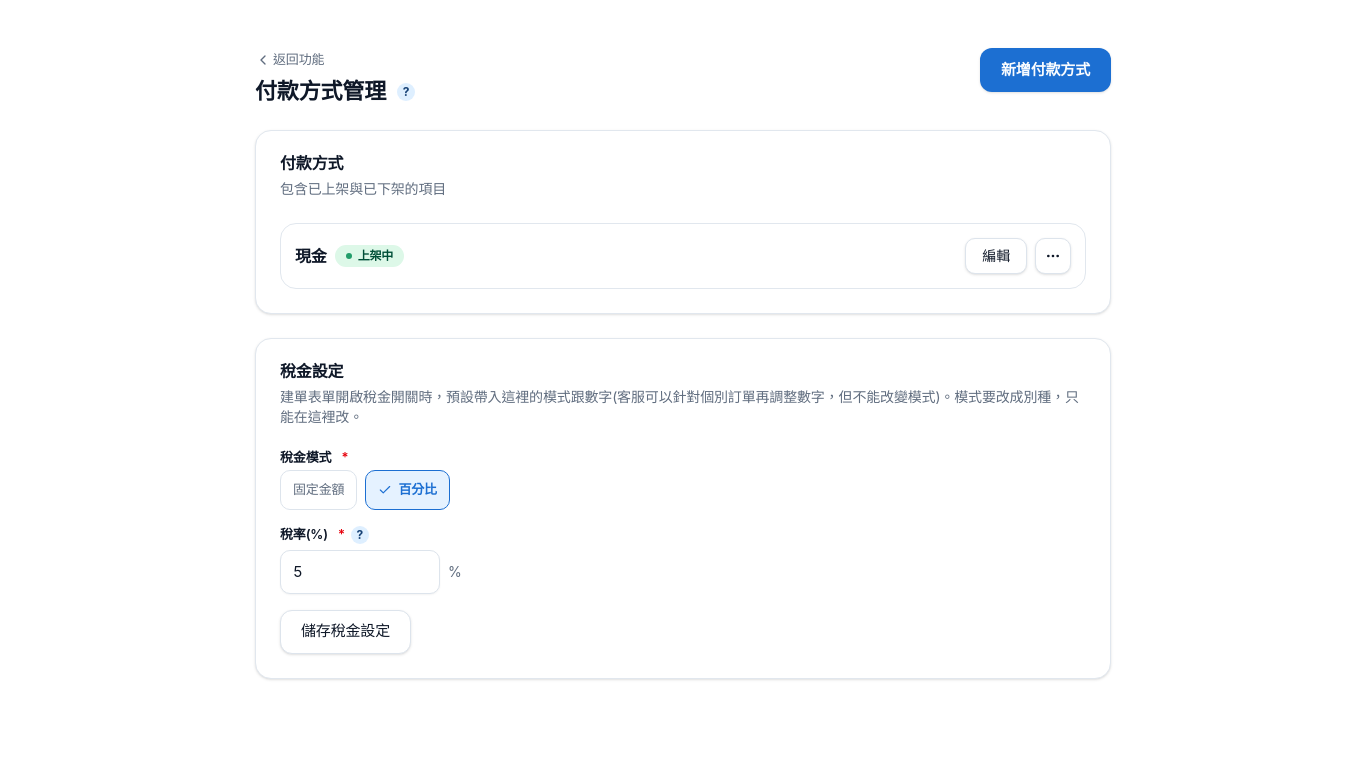
Test: 付款方式小卡窗 × 填過資料才問放棄(第 11 批 J) › 編輯:打開不改 ⇒ Esc 直接關;改一個字 ⇒ Esc 先問
Click the button "編輯" at (996, 256), box [965,238,1027,274]
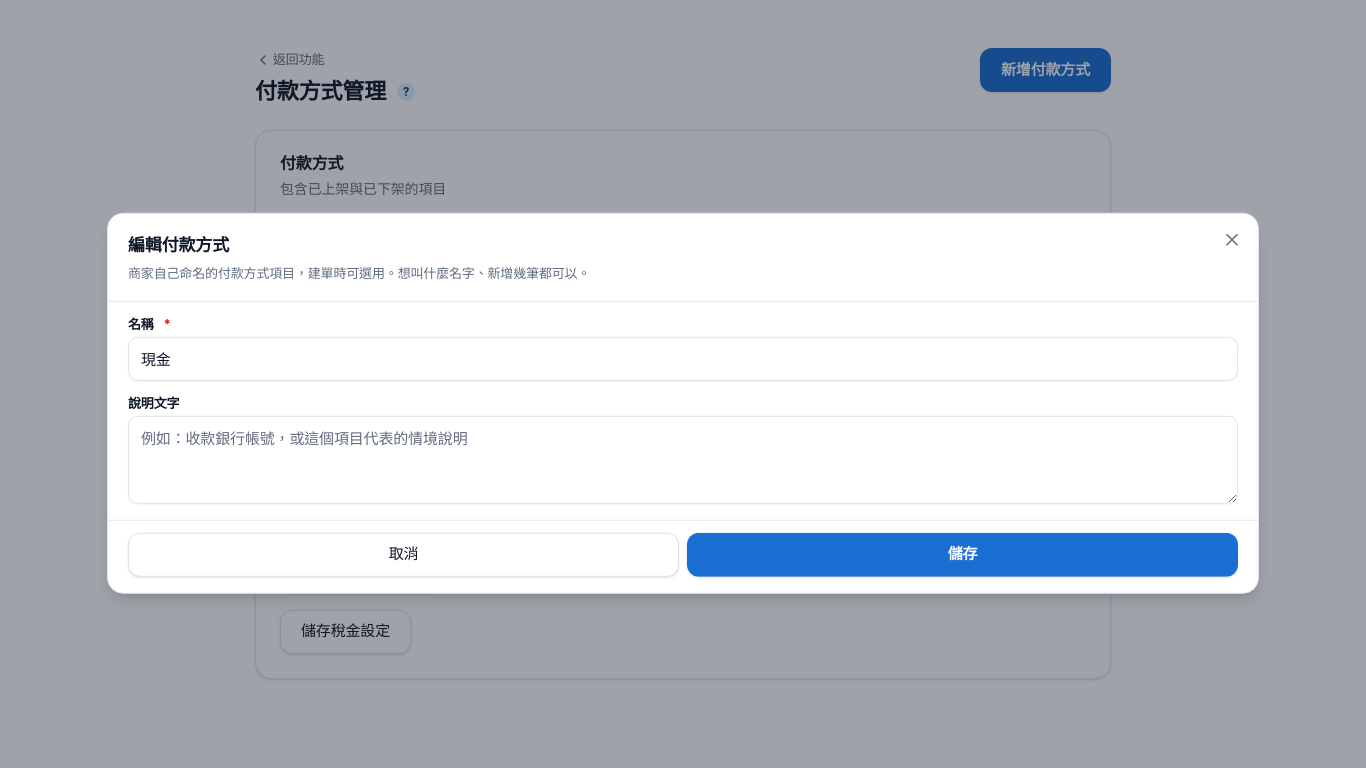
Now the field labelled "名稱 *" holds "現金", box [128,336,1238,380]
Press Escape in the dialog, box [107,213,1259,593]
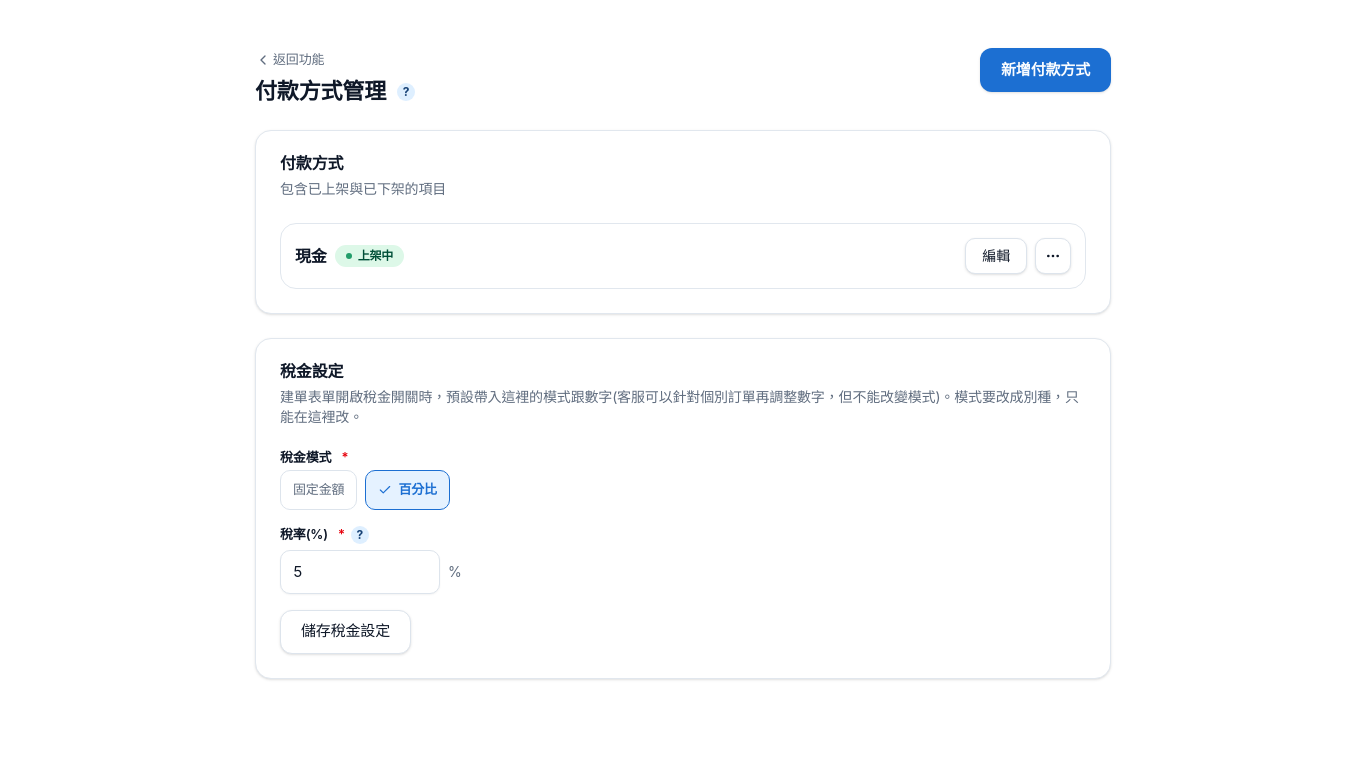
Now the dialog is gone
Click the button "編輯" at (996, 256), box [965,238,1027,274]
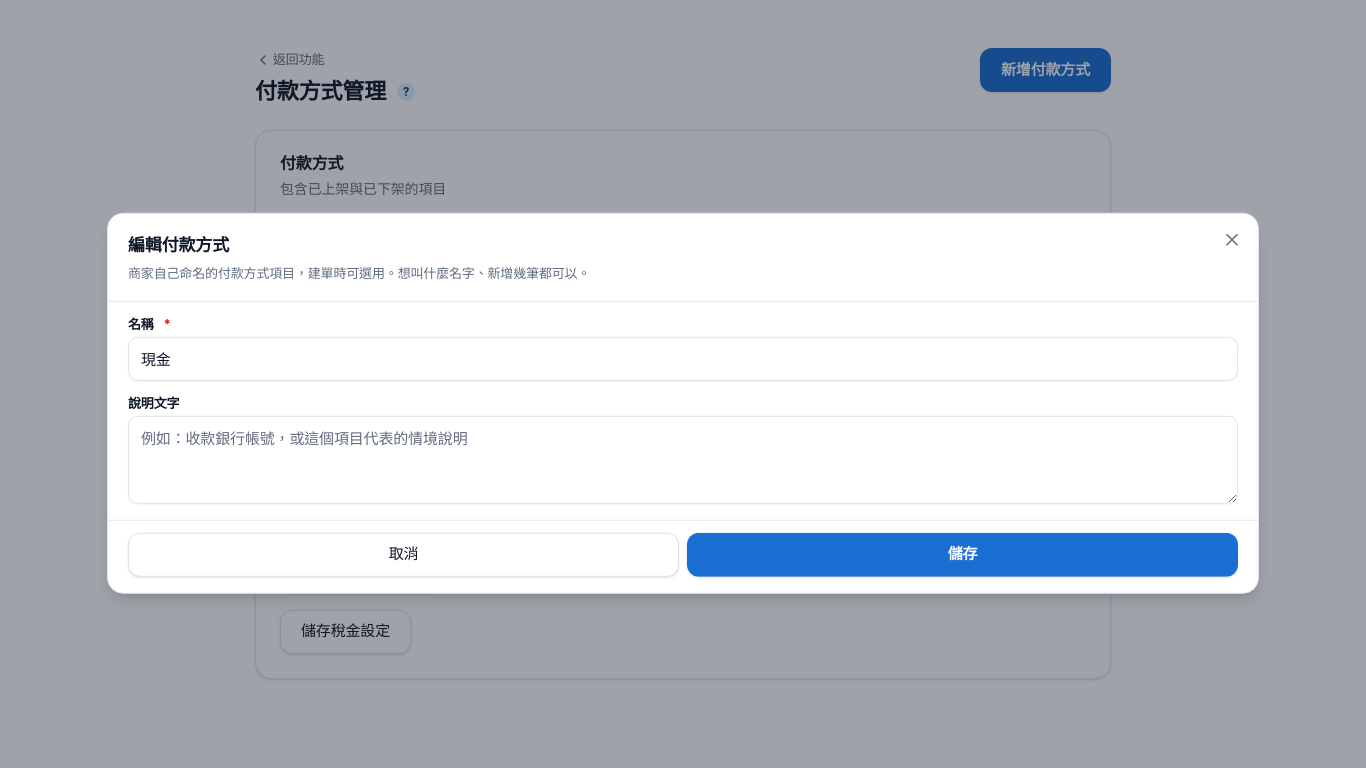
Replace the text in the field labelled "名稱 *" with "現金2" at (683, 358), box [128,336,1238,380]
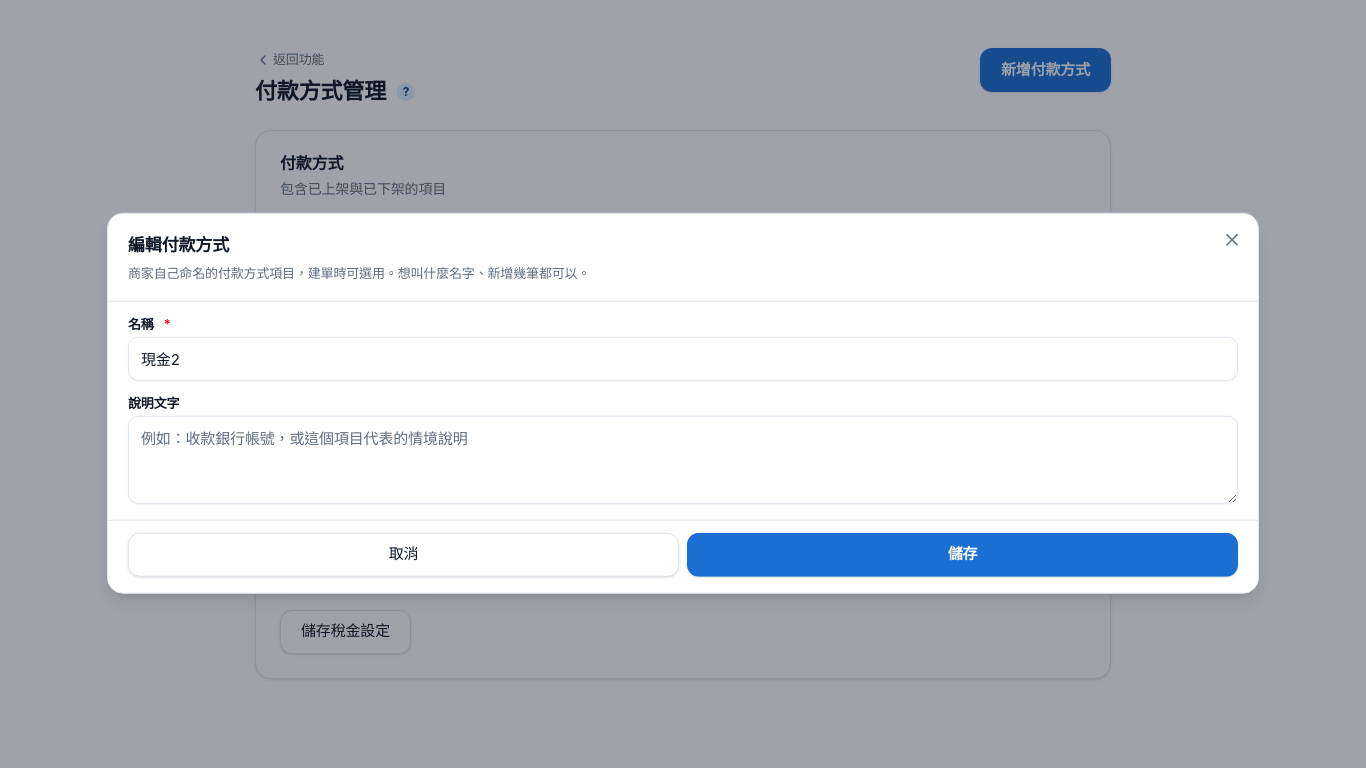
Press Escape in the dialog, box [107,213,1259,593]
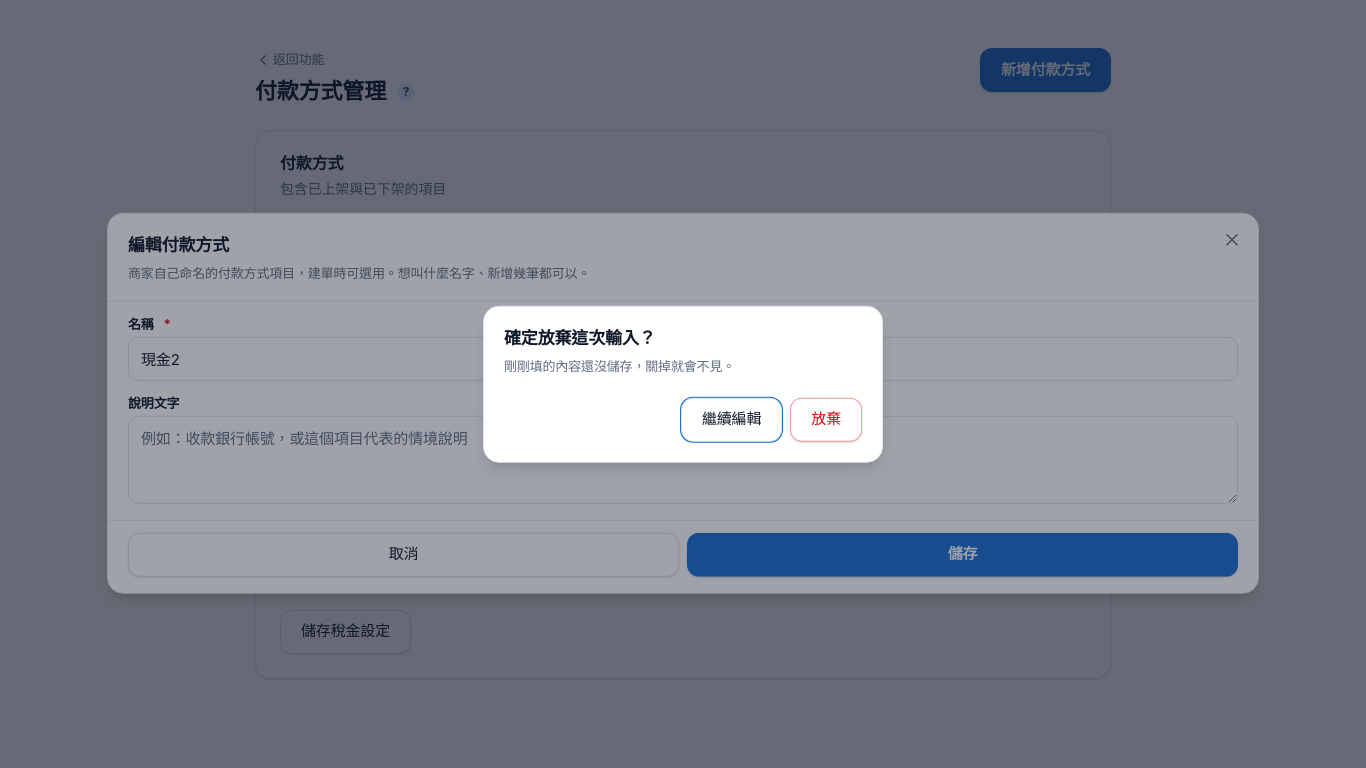
Now the heading "確定放棄這次輸入？" is shown, box [504,328,656,348]
